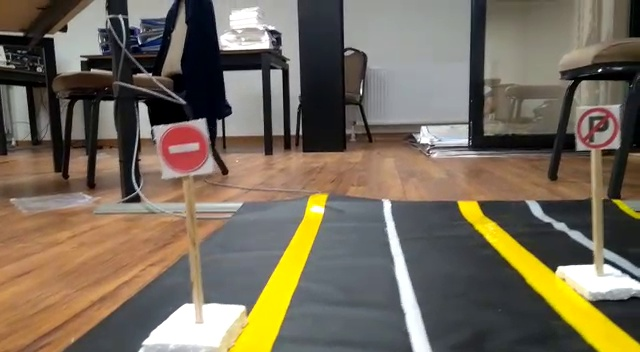girisi_olmayan_yol: (152, 118, 212, 173)
park_yapilmaz: (576, 103, 623, 150)
